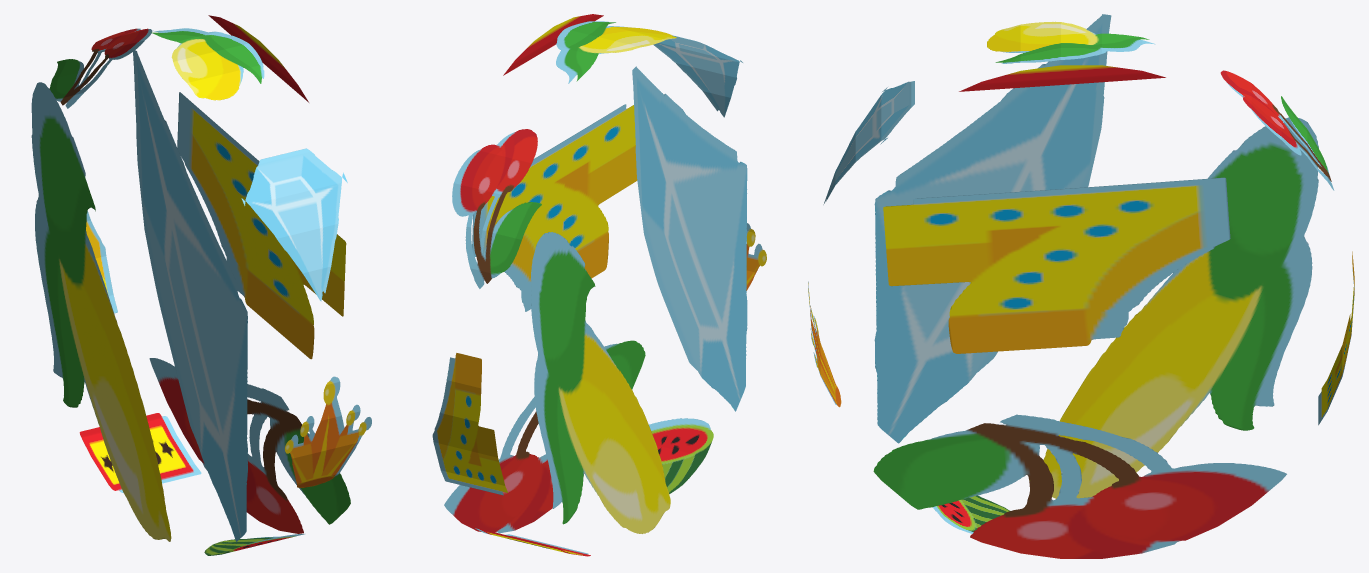
File: reel.fbx
3 renders of one model, left to right at view 1: azimuth 30°, elevation 25°; view 2: azimuth 150°, elevation 25°; view 3: azimuth 270°, elevation 25°, orthographic. The views are drawn at different scales.
Visible parts, largest first — view 1: Cylinder; view 2: Cylinder; view 3: Cylinder.
Part boxes in pixels (x1=…): Cylinder: x1=31, y1=15, x2=371, y2=555; Cylinder: x1=432, y1=14, x2=766, y2=556; Cylinder: x1=808, y1=14, x2=1354, y2=558.
Bounding box in the file's own units: 20 × 89.75 × 90.
Materials: 1 (1 with a texture image).
